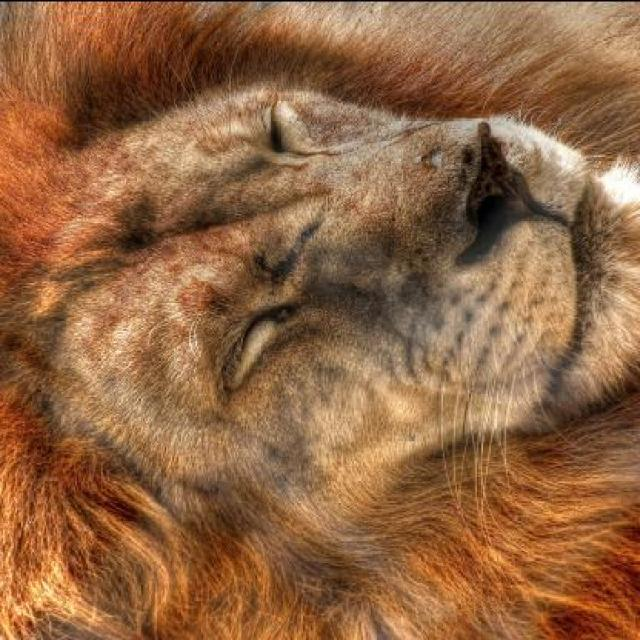Lion: (12, 18, 638, 631)
